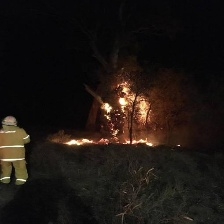fire: (97, 76, 157, 131), (61, 129, 163, 149)
